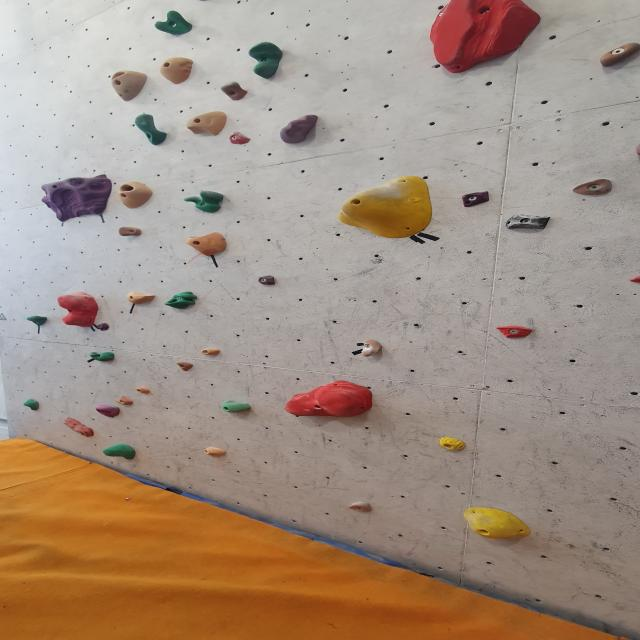Crimp: (39, 174, 116, 220), (565, 177, 618, 197), (428, 434, 476, 454), (486, 323, 537, 341), (456, 190, 497, 206), (174, 357, 202, 374), (227, 130, 253, 148), (199, 444, 232, 458), (347, 500, 375, 512), (255, 274, 280, 287), (132, 387, 156, 398), (114, 396, 134, 406), (199, 349, 223, 357), (96, 323, 114, 332)
Jug: (236, 41, 291, 76), (130, 113, 170, 147), (147, 10, 202, 34), (182, 190, 225, 212), (219, 80, 248, 102), (358, 336, 383, 360), (218, 398, 252, 415), (86, 351, 118, 364), (117, 225, 143, 238), (26, 314, 50, 327)
Pinch: (271, 112, 323, 144), (499, 209, 554, 232), (596, 40, 640, 67), (125, 290, 159, 306)
Pocket: (104, 68, 151, 104), (116, 181, 154, 209), (161, 291, 208, 310)
Sloper: (429, 2, 550, 80), (332, 176, 438, 242), (279, 380, 376, 419), (459, 506, 534, 543), (50, 290, 103, 330), (182, 109, 230, 137), (182, 232, 230, 258), (154, 56, 198, 84), (100, 444, 138, 462)
